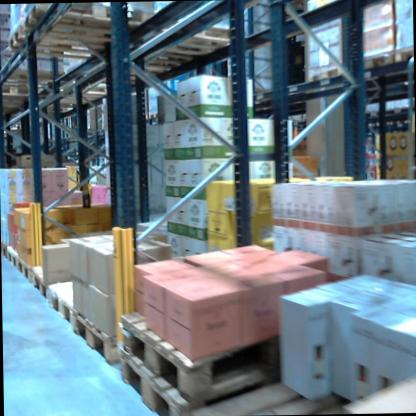pallet: (123, 283, 354, 399), (183, 346, 416, 414), (120, 335, 234, 416), (21, 4, 161, 51), (73, 292, 156, 368), (7, 26, 119, 66), (0, 52, 84, 91), (147, 23, 238, 59), (131, 41, 198, 75), (45, 276, 85, 331), (0, 78, 76, 102), (354, 47, 393, 78), (308, 61, 343, 84), (33, 263, 51, 305), (18, 255, 35, 289), (7, 243, 23, 277), (392, 44, 414, 66), (1, 238, 9, 260)
